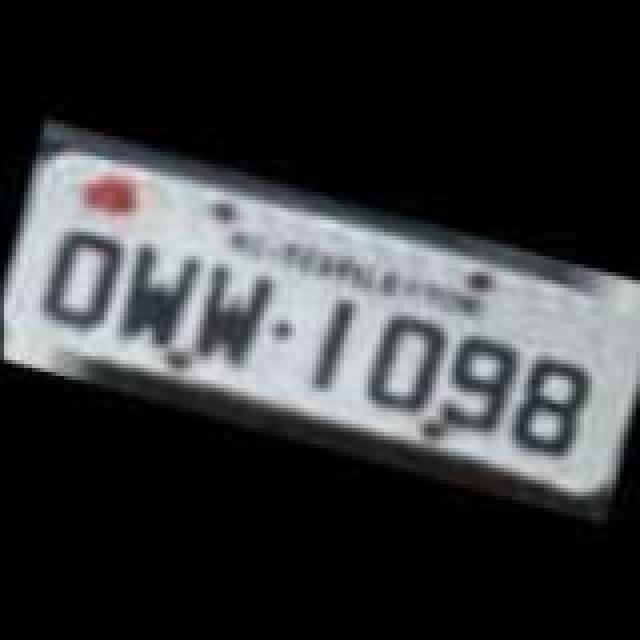1: (300, 288, 360, 388)
8: (504, 350, 600, 466)
9: (430, 324, 522, 436)
O: (356, 308, 448, 420), (36, 220, 128, 332)
W: (108, 234, 200, 354), (182, 260, 270, 372)
